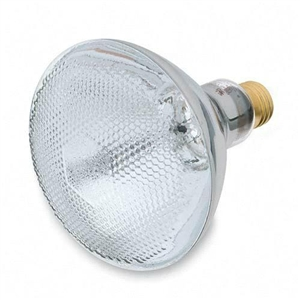Nonrec_Glass: (16, 35, 278, 271)
